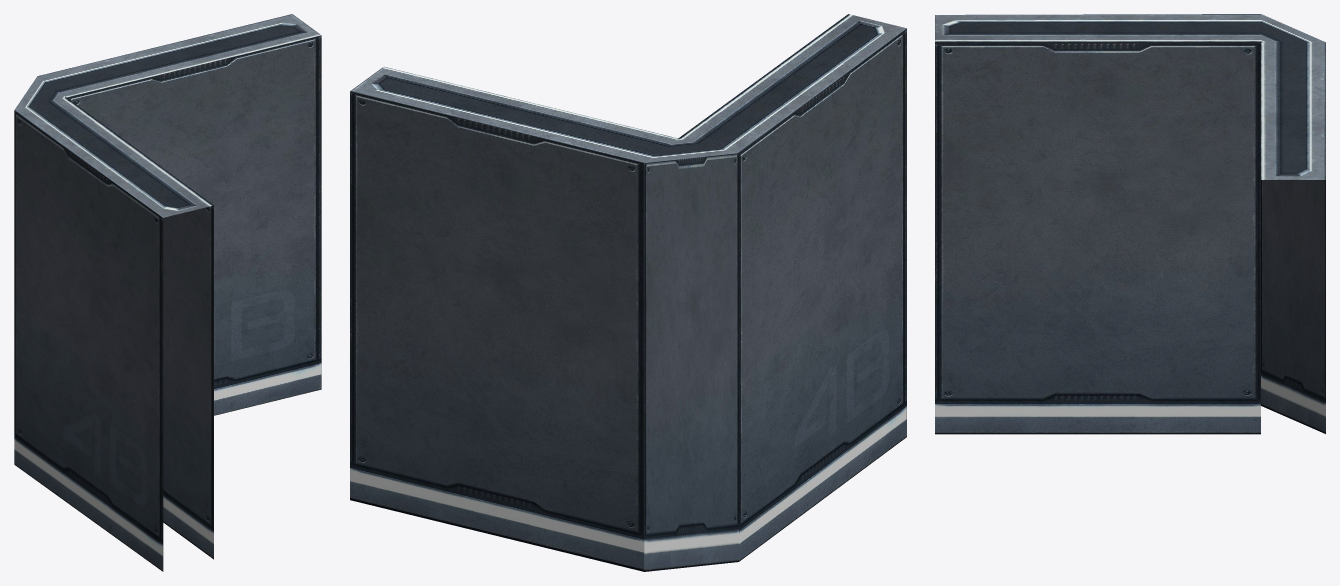
Rendered from wall_angle.fbx.
3 renders of one model, left to right at view 1: azimuth 30°, elevation 25°; view 2: azimuth 150°, elevation 25°; view 3: azimuth 270°, elevation 25°, orthographic. The views are drawn at different scales.
Visible parts, largest first — view 1: pCube4; view 2: pCube4; view 3: pCube4.
Boxes of the visible parts, <box> form: pCube4: <box>14,14,321,571</box>; pCube4: <box>350,14,906,571</box>; pCube4: <box>935,14,1325,434</box>.
Size of the model in its own units: 182 by 200 by 181.
